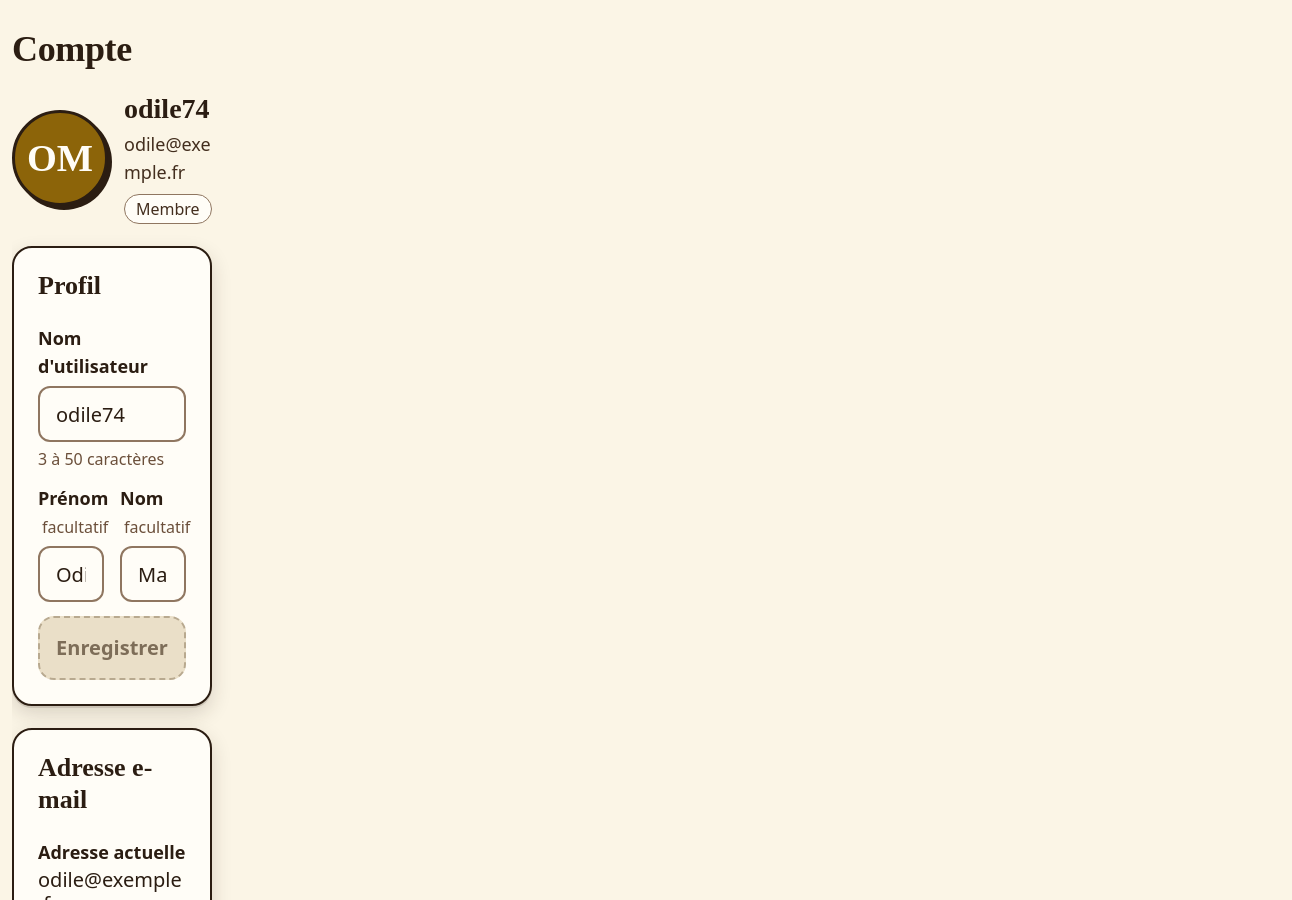
Test: AccountScreen › the profile card › sends only what changed, and says it was saved
Clear the field labelled "Nom d'utilisateur": (112, 414) [38,386,186,442]
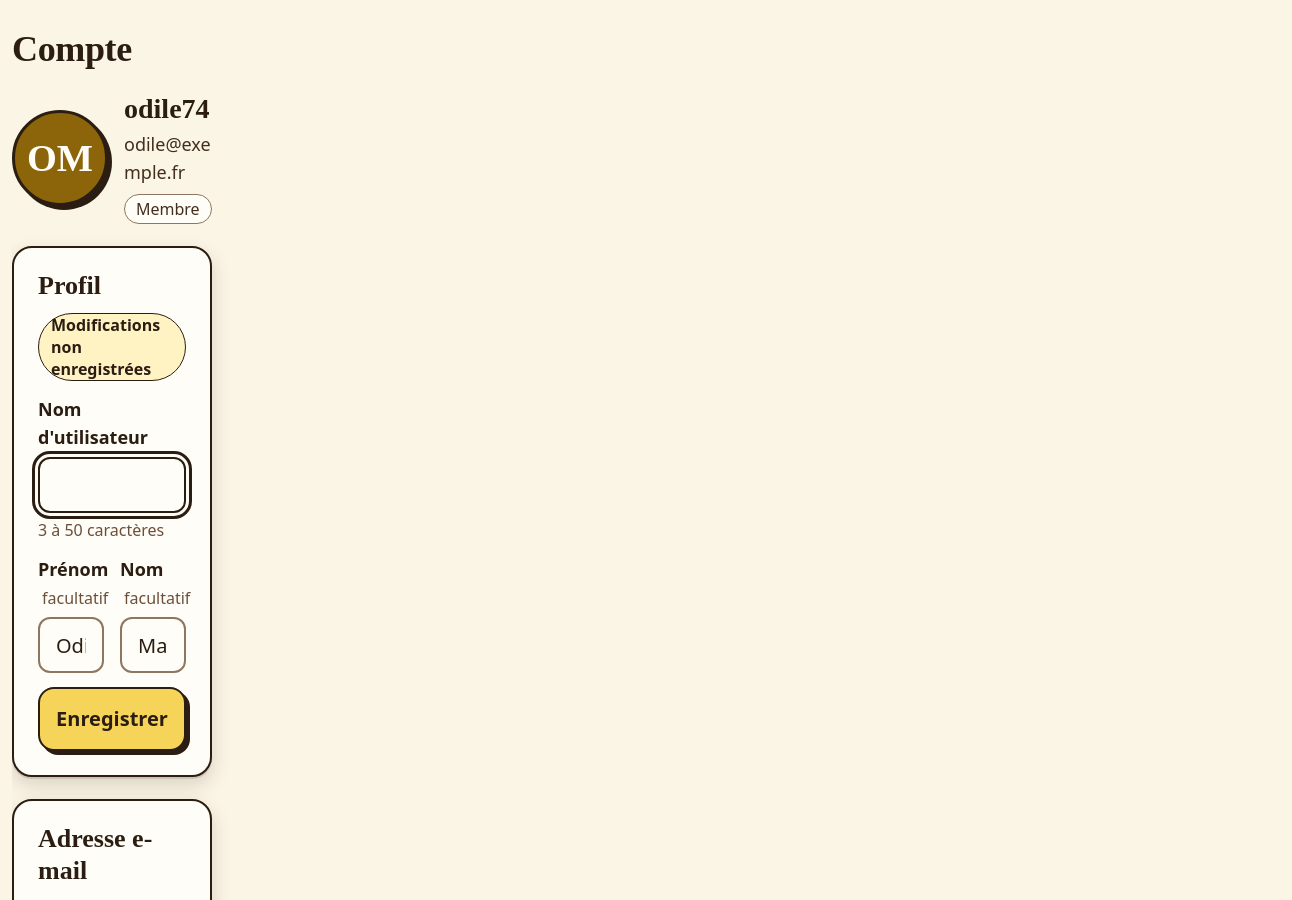
In the field labelled "Nom d'utilisateur": (112, 485) [38,457,186,513], type "odile75"
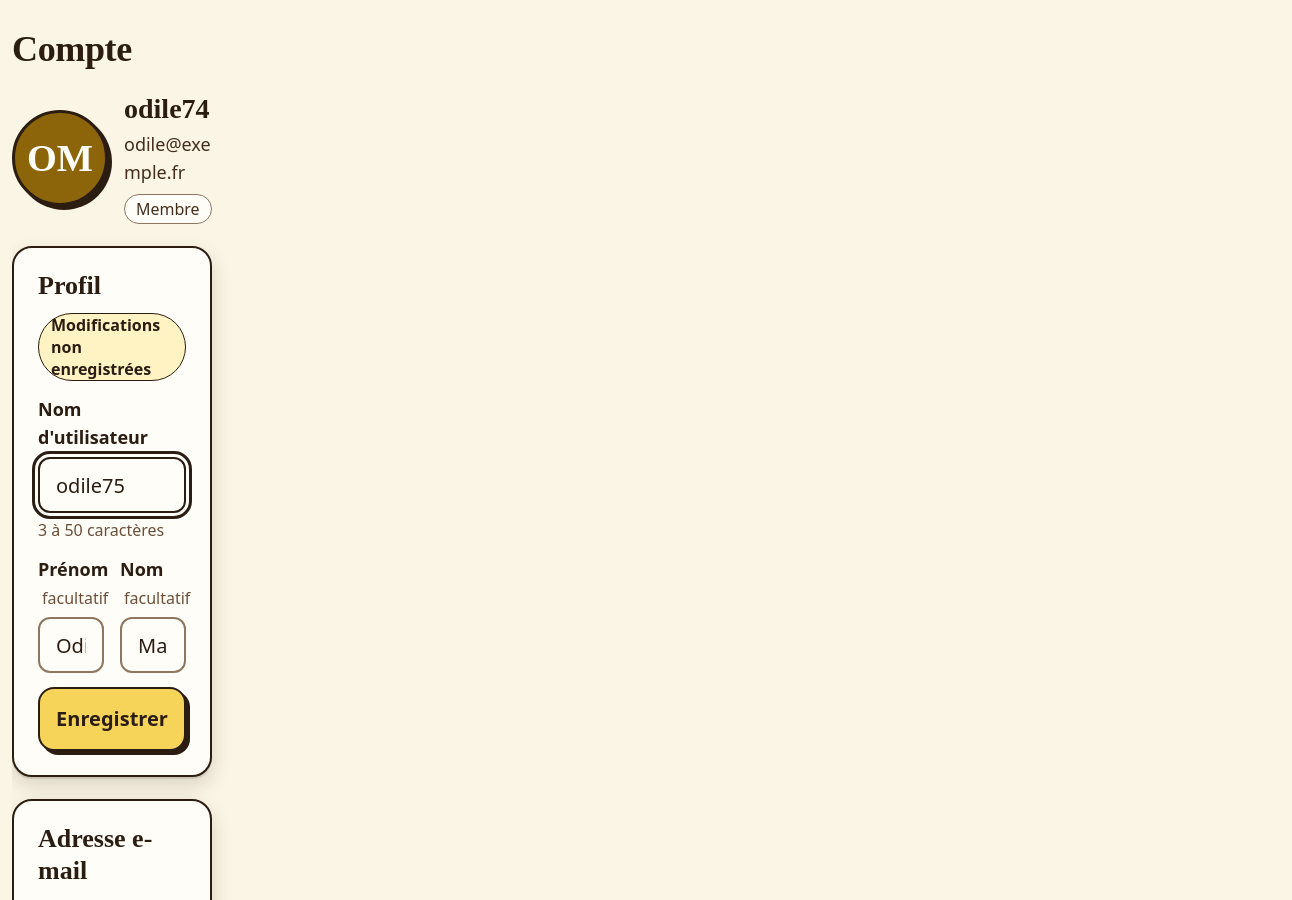
Click the button "Enregistrer": (112, 719) [38,687,186,751]
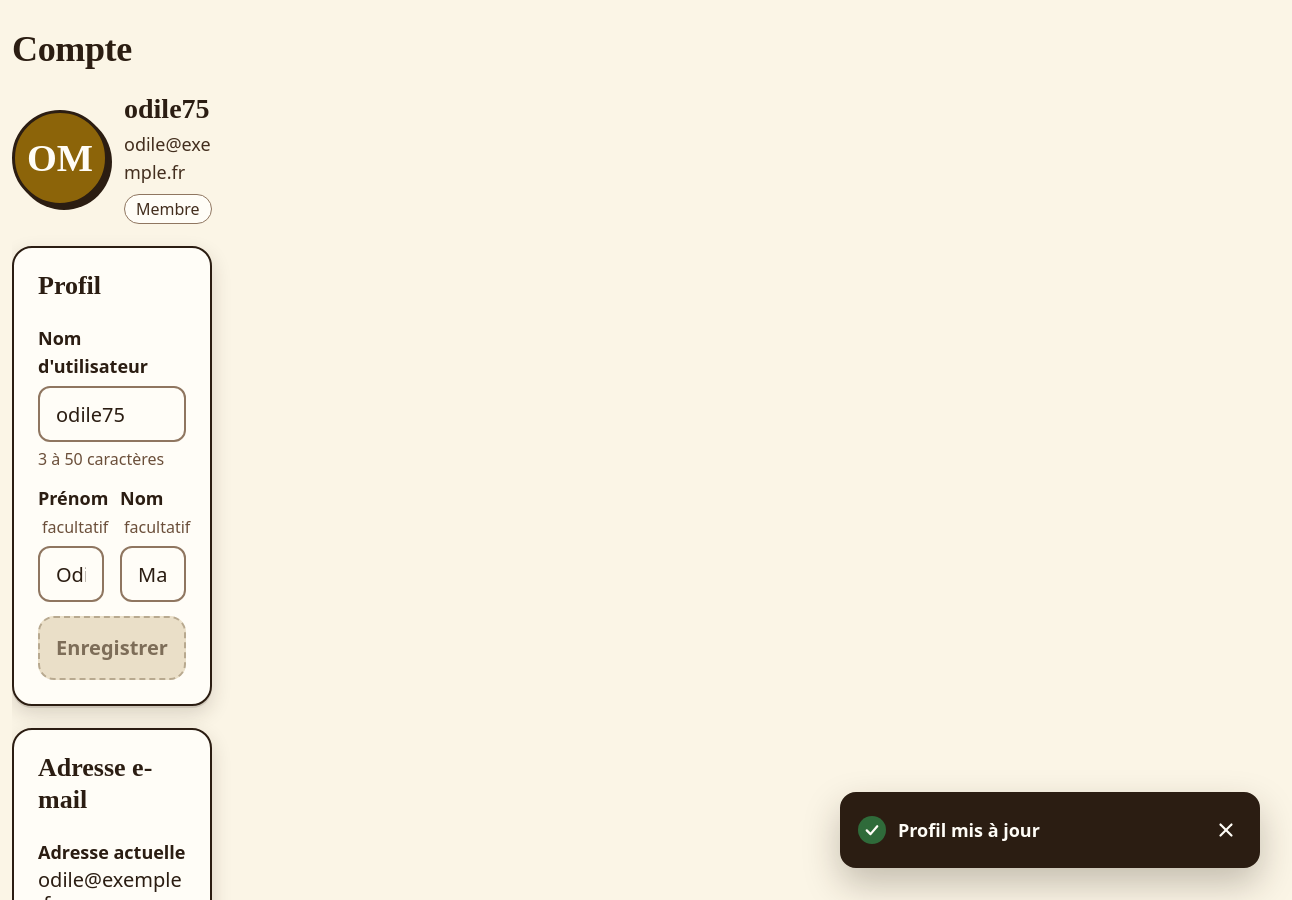
Expected: the text "Profil mis à jour" is shown, [898,818,1040,842]
